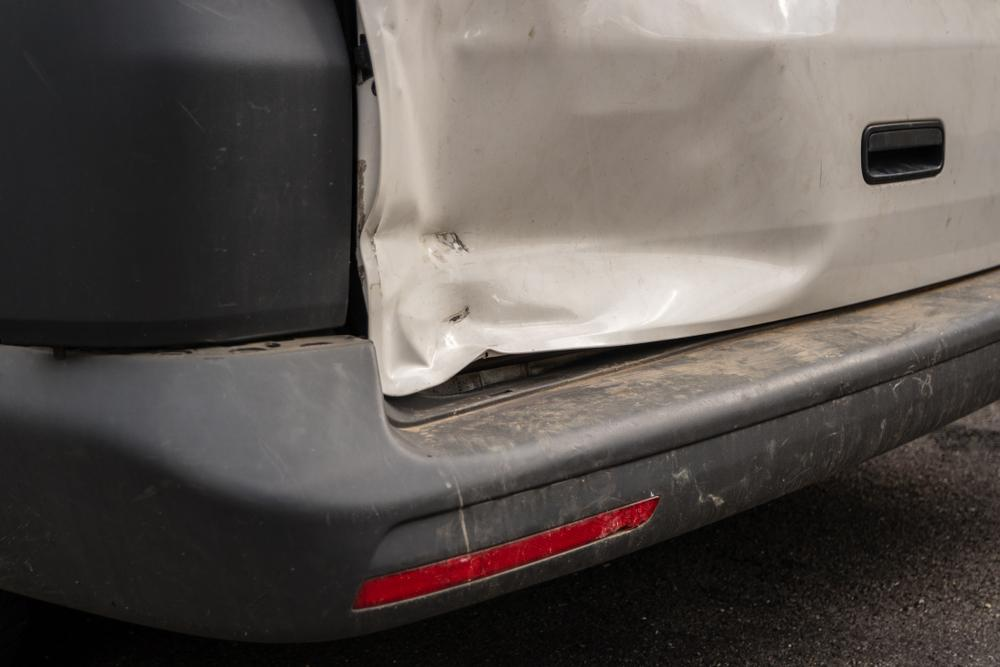dent: (362, 0, 842, 396)
